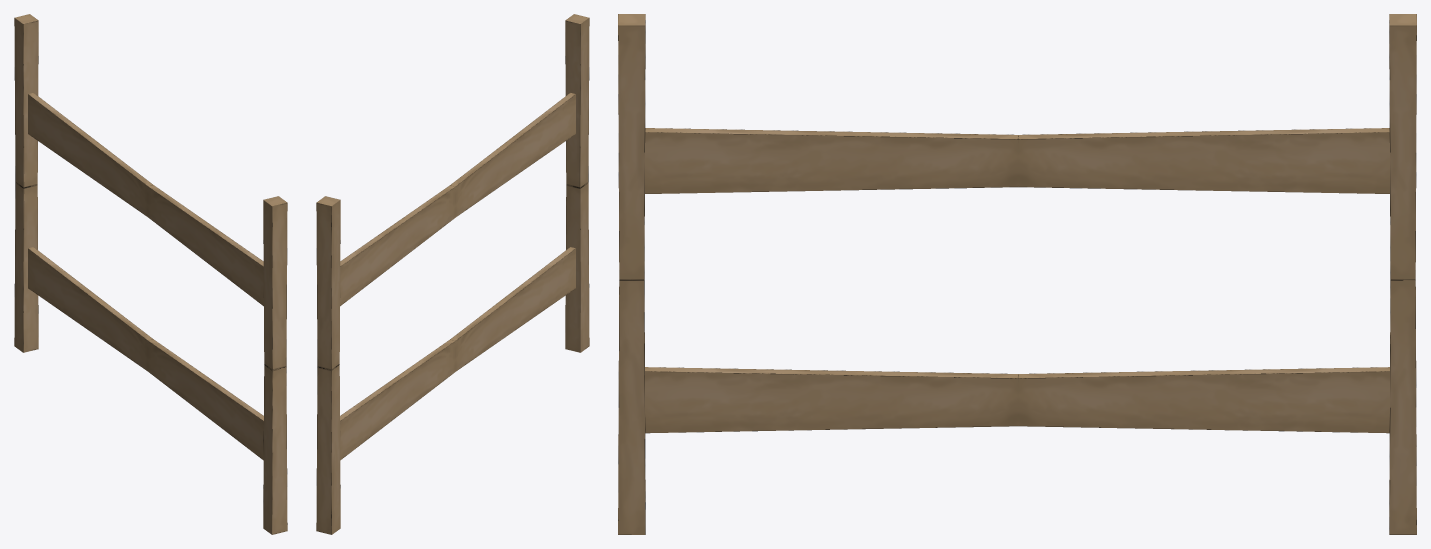
Rendered from 울타리.fbx.
3 renders of one model, left to right at view 1: azimuth 30°, elevation 25°; view 2: azimuth 150°, elevation 25°; view 3: azimuth 270°, elevation 25°, orthographic. The views are drawn at different scales.
Parts seen in each view (by area): view 1: fence; view 2: fence; view 3: fence.
Part boxes in pixels (x1,y1,x2,y2): fence: (14,14,287,534); fence: (316,14,589,534); fence: (618,14,1416,534).
Bounding box in the file's own units: 1 × 20.36 × 28.94.
Materials: 1 (1 with a texture image).
